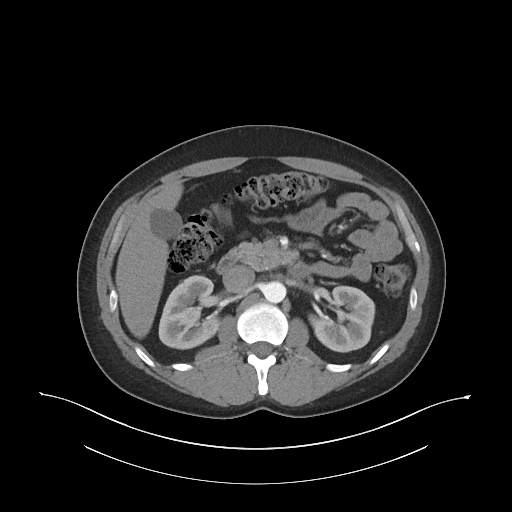Lesion: (176, 278, 185, 288)
